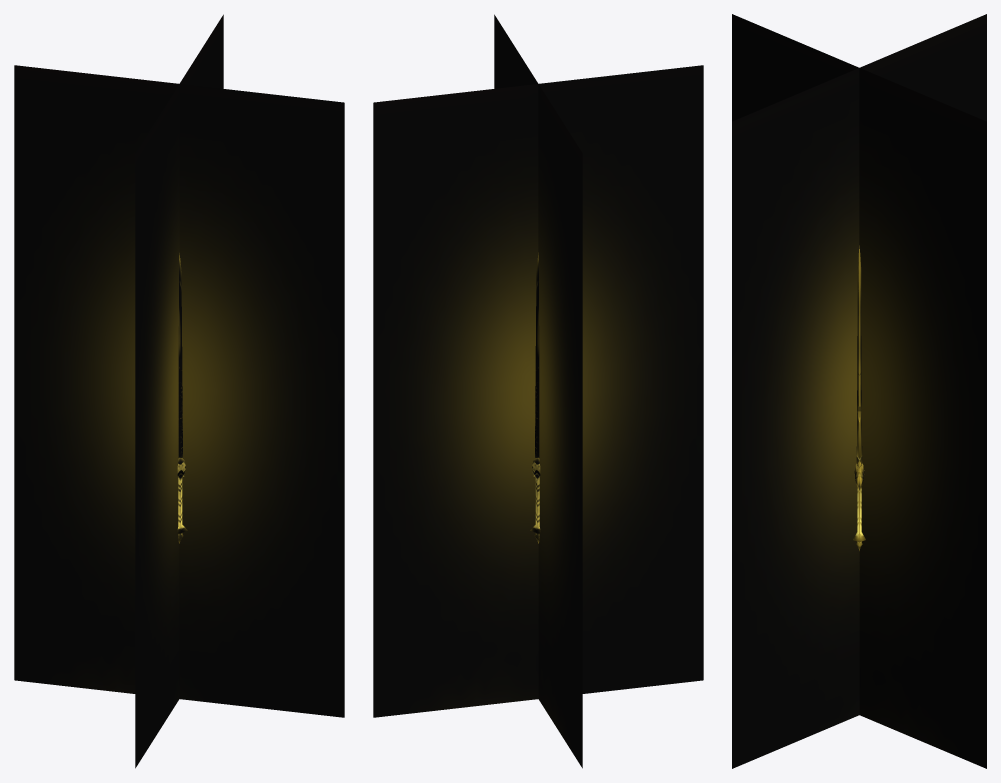
Rendered from FX_mesh_sword.FBX.
The picture shows the model from 3 angles, left to right: view 1: azimuth 30°, elevation 25°; view 2: azimuth 150°, elevation 25°; view 3: azimuth 270°, elevation 25°; orthographic projection. The views are drawn at different scales.
Parts seen in each view (by area): view 1: eff_arthurskill002; view 2: eff_arthurskill002; view 3: eff_arthurskill002.
Boxes of the visible parts, x1=… form: eff_arthurskill002: x1=14, y1=14, x2=344, y2=768; eff_arthurskill002: x1=373, y1=14, x2=703, y2=768; eff_arthurskill002: x1=732, y1=14, x2=986, y2=768.
Size of the model in its own units: 238 by 668 by 238.
Materials: 1 (1 with a texture image).
